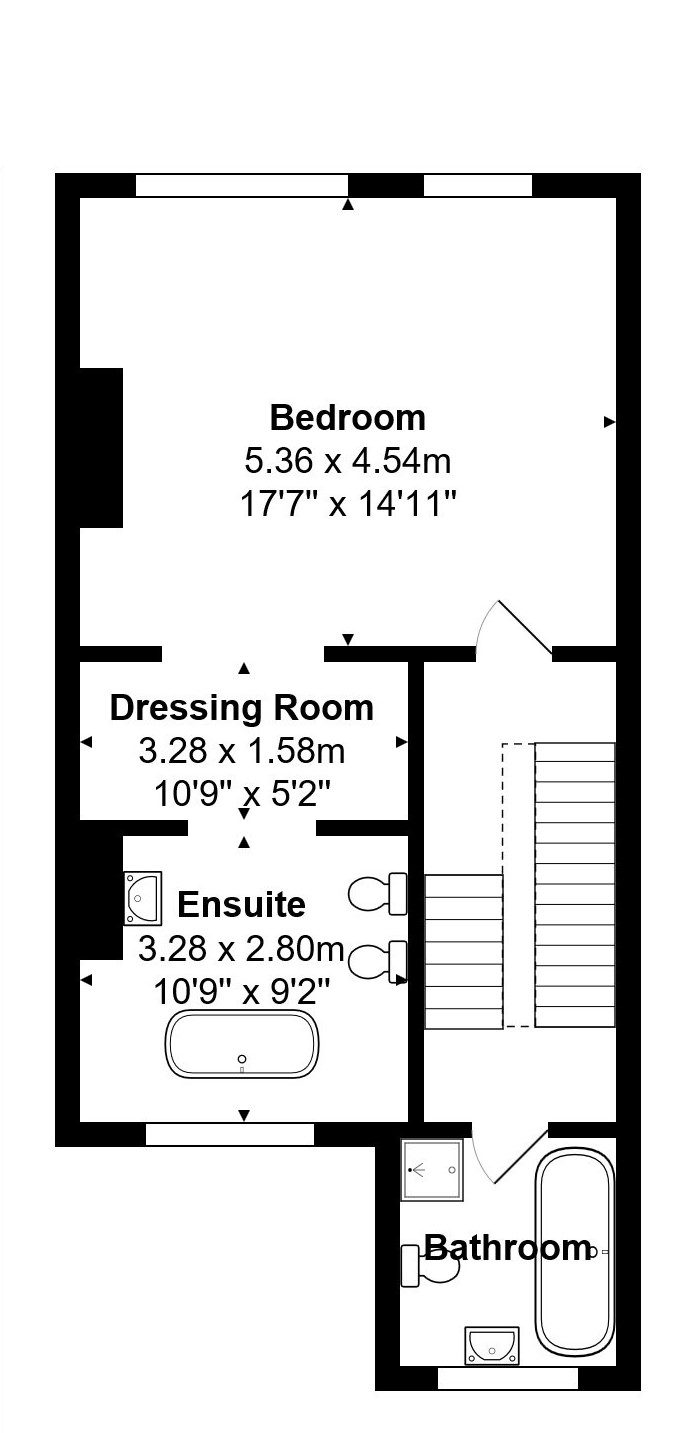room: (53, 174, 637, 668), (372, 1122, 646, 1387), (51, 646, 422, 839)
